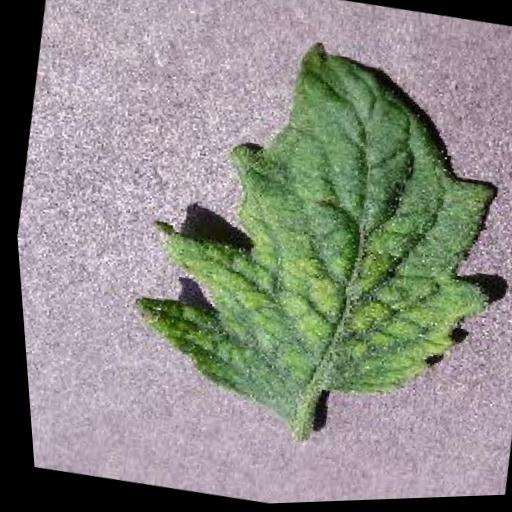Mosaic Virus: (98, 9, 512, 462)
